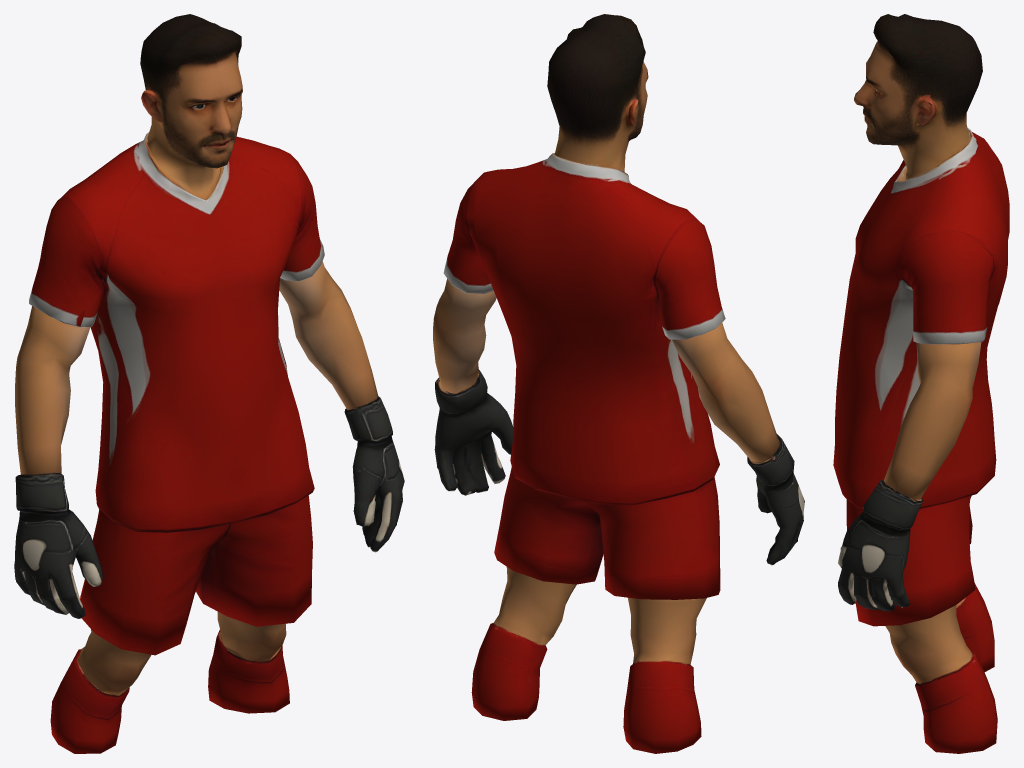
The model's file is selected.glb.
The picture shows the model from 3 angles, left to right: view 1: azimuth 30°, elevation 25°; view 2: azimuth 150°, elevation 25°; view 3: azimuth 270°, elevation 25°; orthographic projection. The views are drawn at different scales.
Visible parts, largest first — view 1: tripo_node_9efe6e6d-1abf-4967-b167-0881055ea91a; view 2: tripo_node_9efe6e6d-1abf-4967-b167-0881055ea91a; view 3: tripo_node_9efe6e6d-1abf-4967-b167-0881055ea91a.
Part boxes in pixels (x1,y1,x2,y2): tripo_node_9efe6e6d-1abf-4967-b167-0881055ea91a: [14, 14, 404, 753]; tripo_node_9efe6e6d-1abf-4967-b167-0881055ea91a: [433, 14, 804, 753]; tripo_node_9efe6e6d-1abf-4967-b167-0881055ea91a: [833, 14, 1009, 753].
Bounding box in the file's own units: 0.5527 × 0.998 × 0.2324.
1 material, 1 textured.
